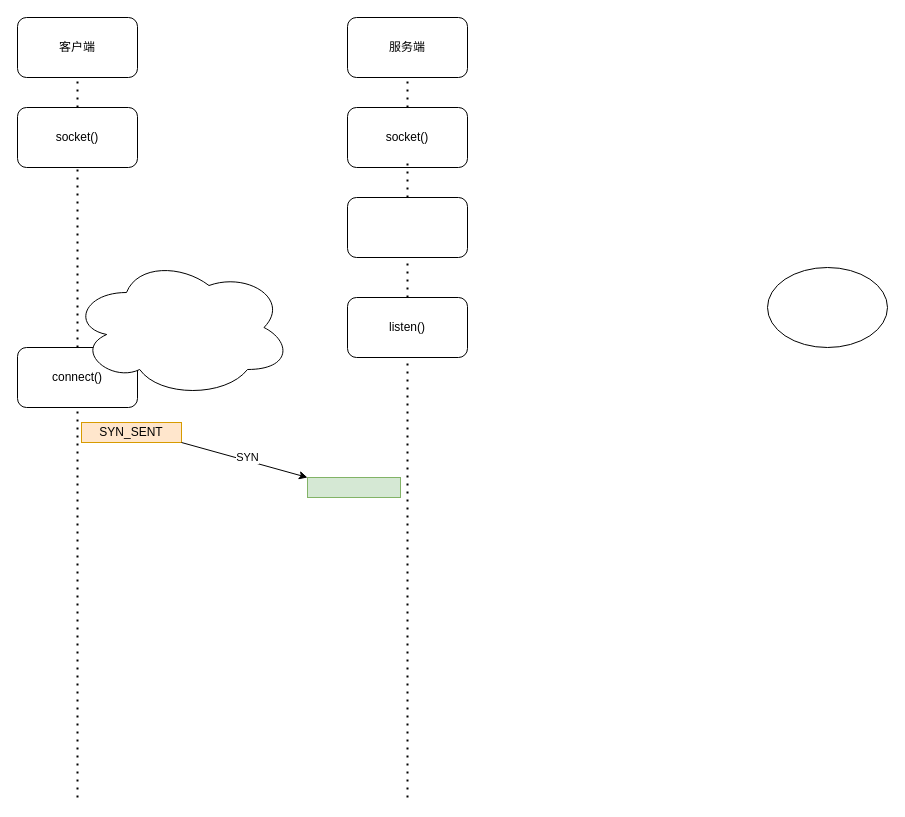
This 905x817 diagram has some shape labels left out. Each missing label, with the box of its shape:
bind(): (346, 196, 468, 258)
block!!! wait for three-handshakes: (70, 256, 292, 398)
SYN_RECV: (306, 476, 400, 498)
